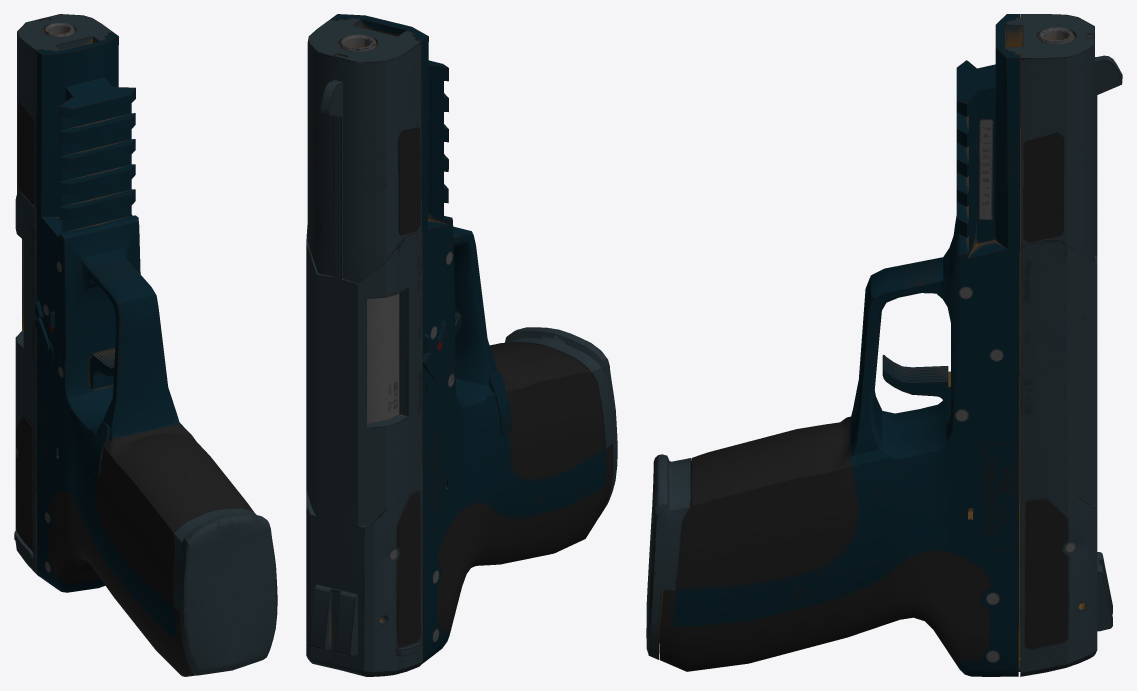
Rendered from fiveseven.glb.
The picture shows the model from 3 angles, left to right: view 1: azimuth 30°, elevation 25°; view 2: azimuth 150°, elevation 25°; view 3: azimuth 270°, elevation 25°; orthographic projection. The views are drawn at different scales.
Visible parts, largest first — view 1: Main_Part_Lowpoly__0; view 2: Main_Part_Lowpoly__0; view 3: Main_Part_Lowpoly__0.
Part boxes in pixels (<box>): Main_Part_Lowpoly__0: <box>14,14,277,676</box>; Main_Part_Lowpoly__0: <box>306,14,617,676</box>; Main_Part_Lowpoly__0: <box>646,14,1122,676</box>.
Size of the model in its own units: 0.0405 by 0.22 by 0.1513.
Materials: 1 (1 with a texture image).
